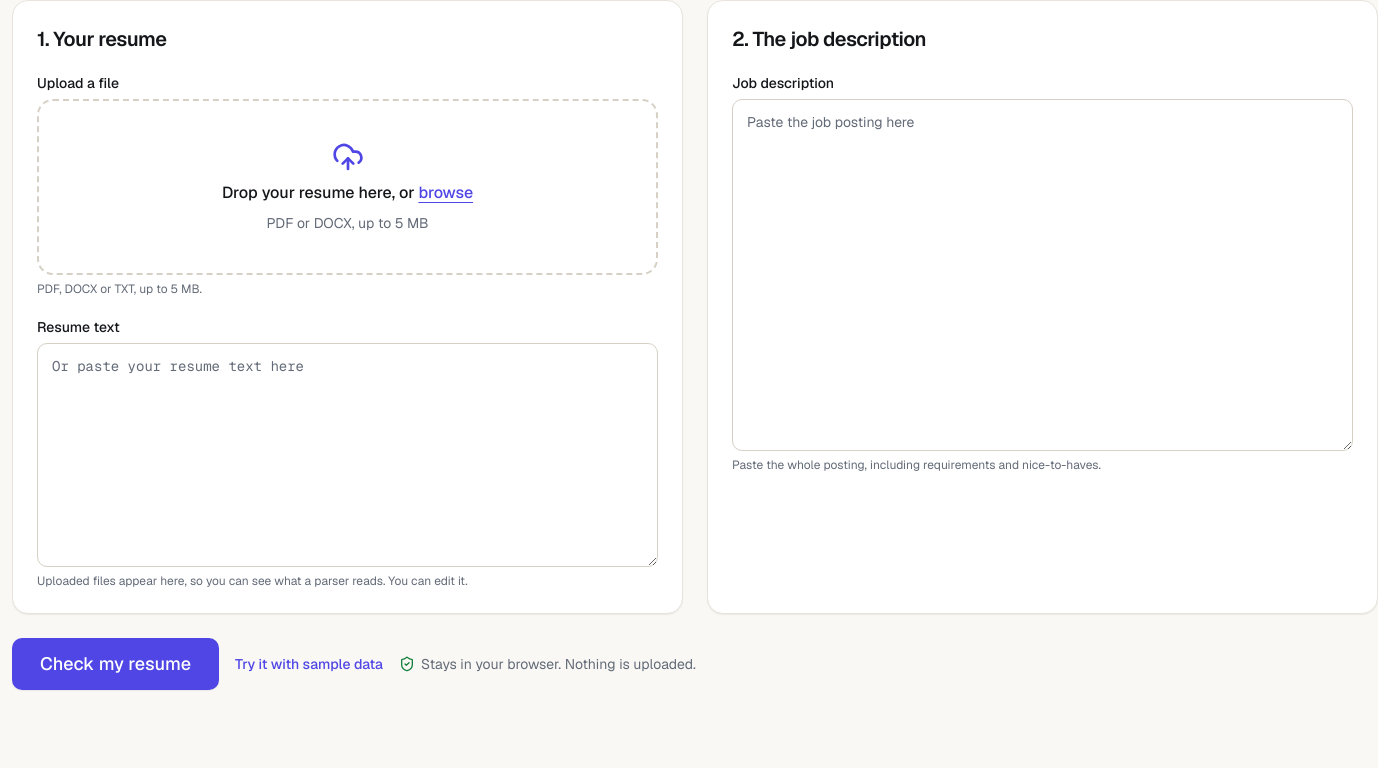
Scenario: AtsChecker › asks for both inputs before analysing
The width and height of the screenshot is (1378, 768).
Click the button "Check my resume" at (116,664), box 12,638 -> 219,690
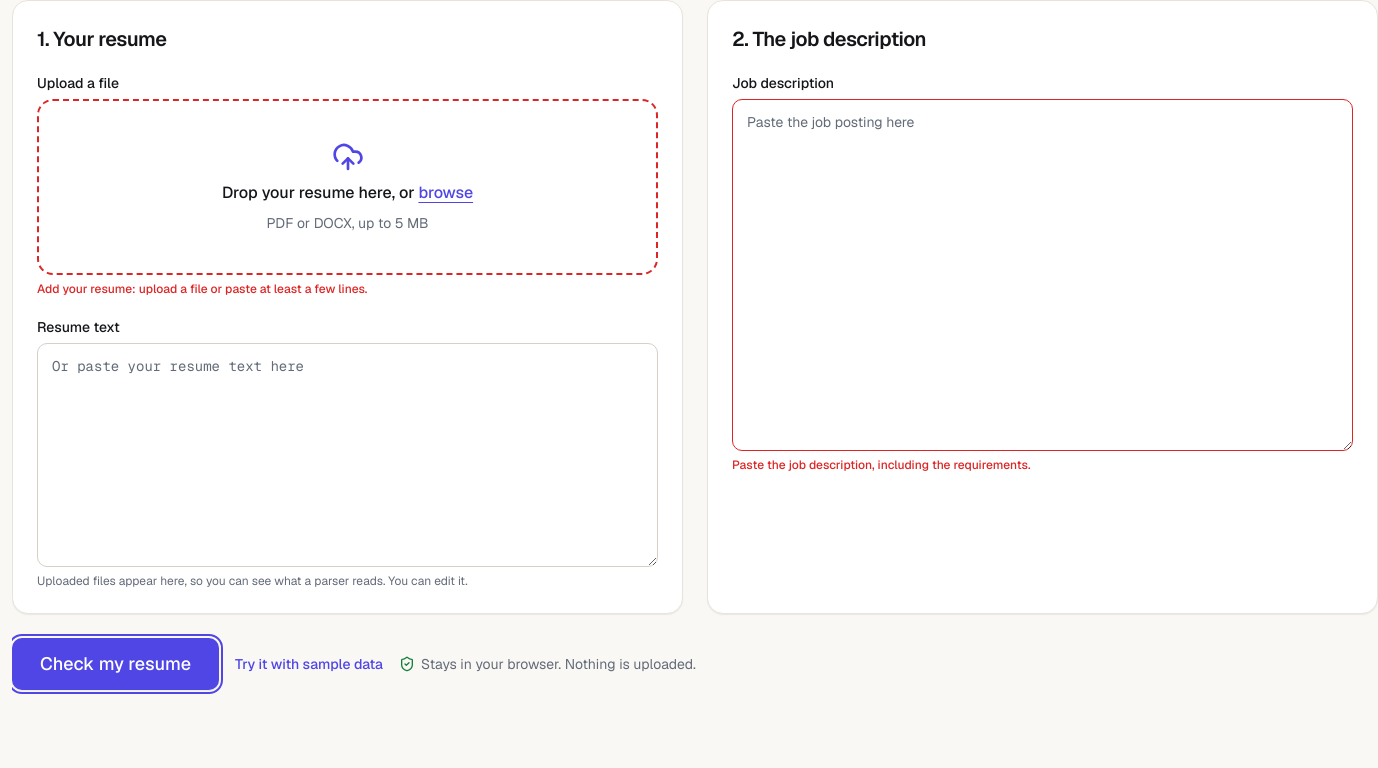
Check: the text "Add your resume: upload a file or paste at least a few lines." is shown, box 37,281 -> 367,297
Check: the text "Paste the job description, including the requirements." is shown, box 732,457 -> 1030,473
